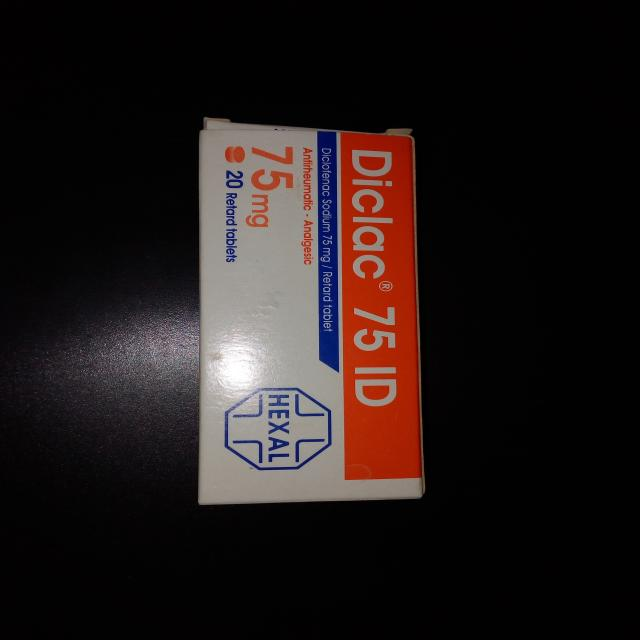Medicine: (188, 113, 430, 505)
